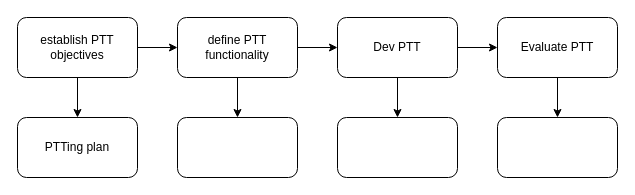
Image size: 635x195. Some labels were removed from this diagram. The centre of each missing label's shape, as x and y in pixels:
"Evaluation report" goes at pixel 557 147.
"executable PTT" goes at pixel 397 147.
"Outline definition" goes at pixel 237 147.
